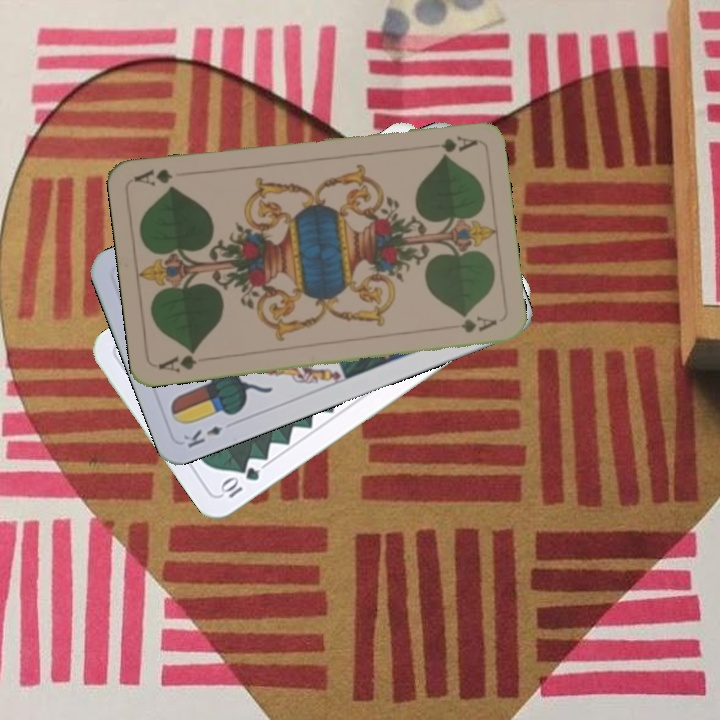EK: (179, 421, 225, 451)
G10: (216, 463, 262, 501)
GA: (420, 132, 479, 155), (154, 346, 200, 375)
